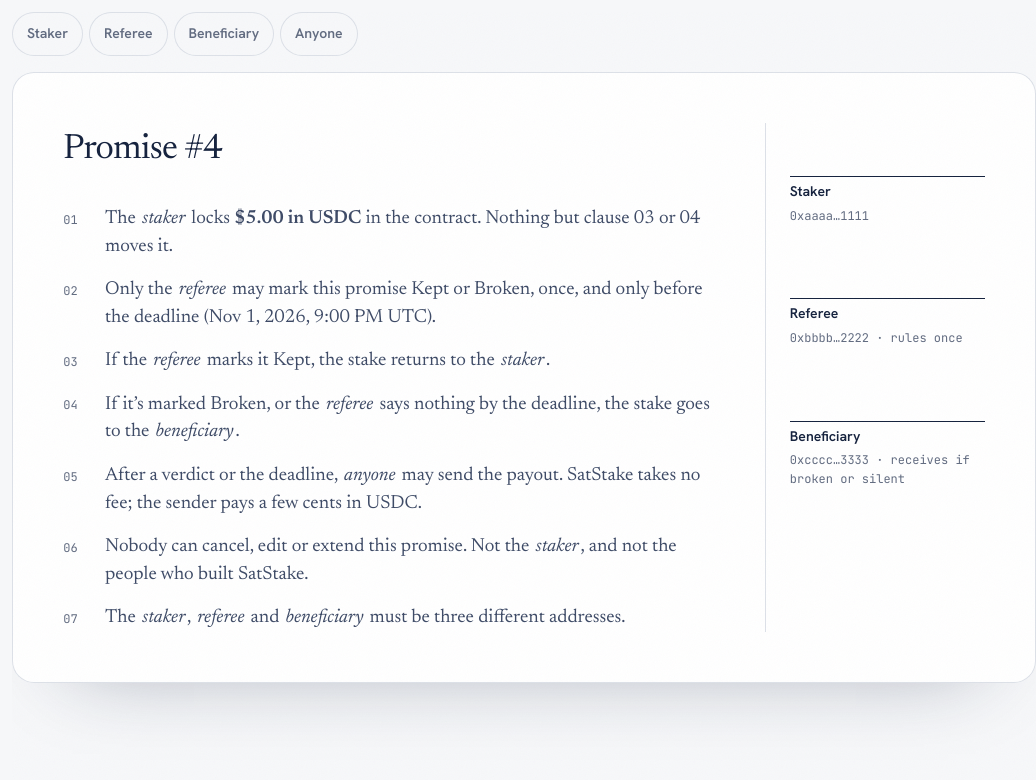
Test case: LLR-FE-040 Read as lights the lines that apply to a role › marks exactly the lines of beneficiary as the ones that apply
The image size is (1036, 780).
Click the button "Beneficiary": point(224, 34) [174,12,274,56]
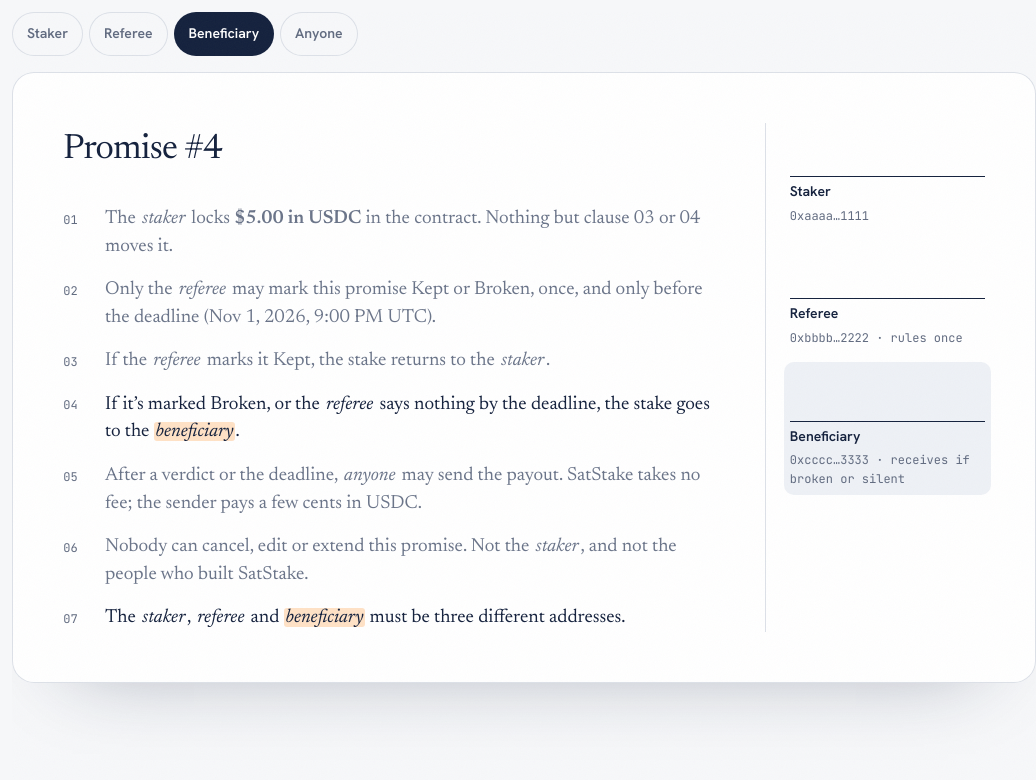
Expected: the element with class "focus" is shown
